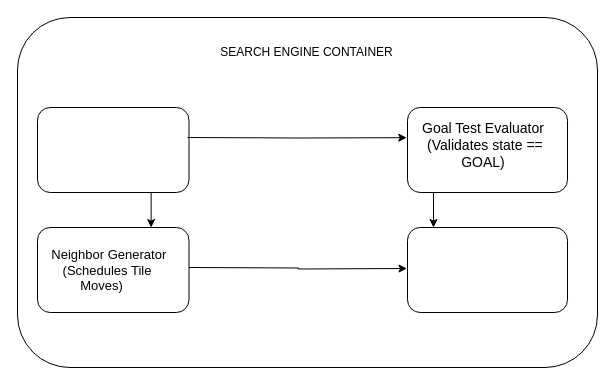
This 615x385 diagram has some shape labels left out. Each missing label, with the box of its shape:
Frontier Manager (PriorityQueue/Deque): (36, 106, 189, 192)
Path Reconstructor (Traces Parent Pointers): (406, 226, 568, 312)
